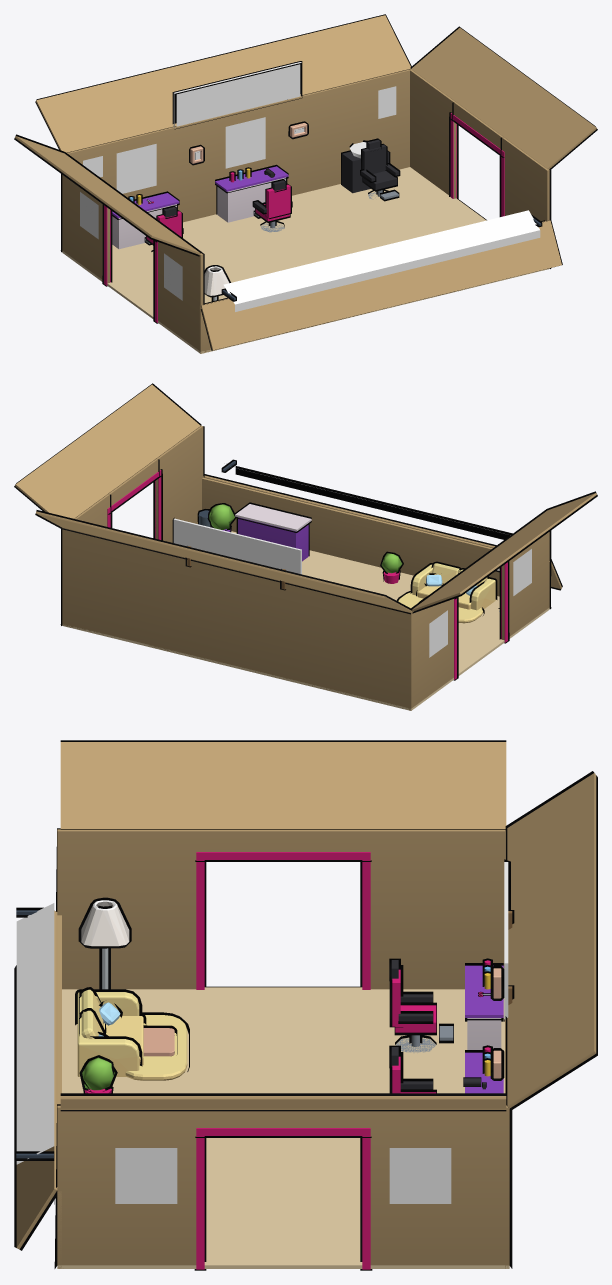
The model's file is BR_Box_Friseur.glb.
3 renders of one model, top to bottom at view 1: azimuth 30°, elevation 25°; view 2: azimuth 150°, elevation 25°; view 3: azimuth 270°, elevation 25°, orthographic. The views are drawn at different scales.
Parts seen in each view (by area): view 1: BR_Box_Friseur_Mesh, BR_Box_Friseur_Outline; view 2: BR_Box_Friseur_Mesh, BR_Box_Friseur_Outline; view 3: BR_Box_Friseur_Mesh, BR_Box_Friseur_Outline.
Part boxes in pixels (<box>): BR_Box_Friseur_Mesh: <box>15,15,596,353</box>; BR_Box_Friseur_Outline: <box>14,14,597,350</box>; BR_Box_Friseur_Mesh: <box>15,384,596,710</box>; BR_Box_Friseur_Outline: <box>14,383,597,680</box>; BR_Box_Friseur_Mesh: <box>16,742,596,1269</box>; BR_Box_Friseur_Outline: <box>14,740,597,1270</box>.
Size of the model in its own units: 12.31 by 3.58 by 8.52.
